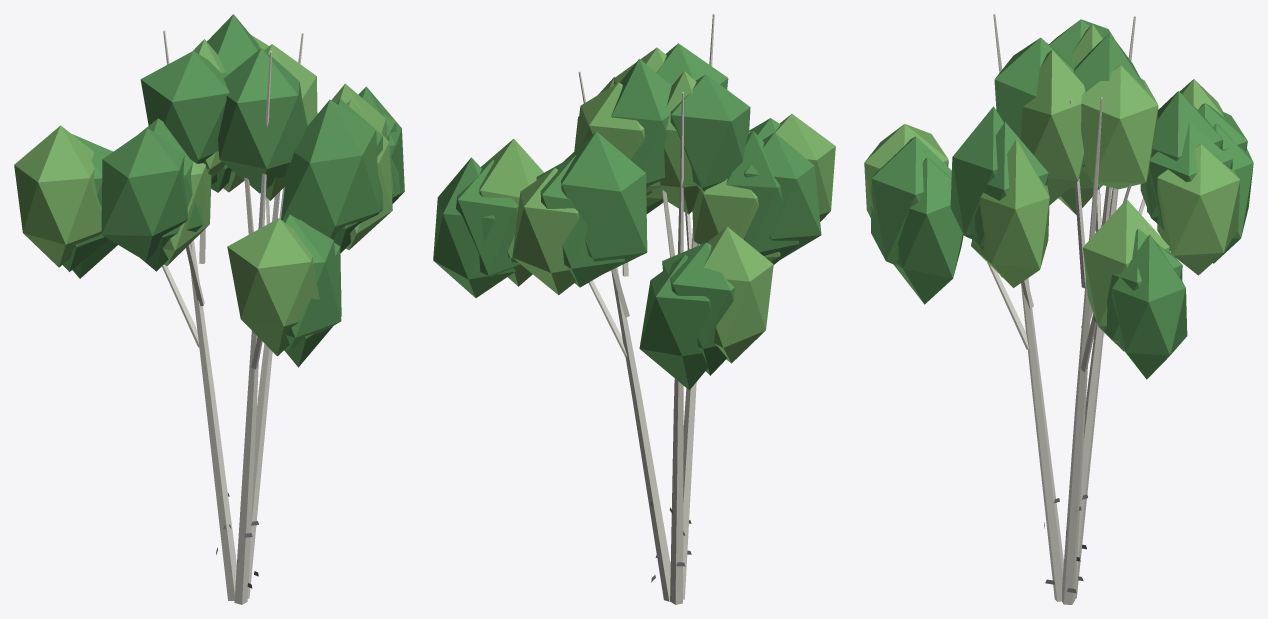
The model's file is birch_02.glb.
The picture shows the model from 3 angles, left to right: view 1: azimuth 30°, elevation 25°; view 2: azimuth 150°, elevation 25°; view 3: azimuth 270°, elevation 25°; orthographic projection. The views are drawn at different scales.
Visible parts, largest first — view 1: Birch_800_02; view 2: Birch_800_02; view 3: Birch_800_02.
Part boxes in pixels (x1,y1,x2,y2): Birch_800_02: (14,14,404,604); Birch_800_02: (433,14,835,604); Birch_800_02: (864,14,1253,604).
Size of the model in its own units: 9.85 by 15.14 by 9.14.
